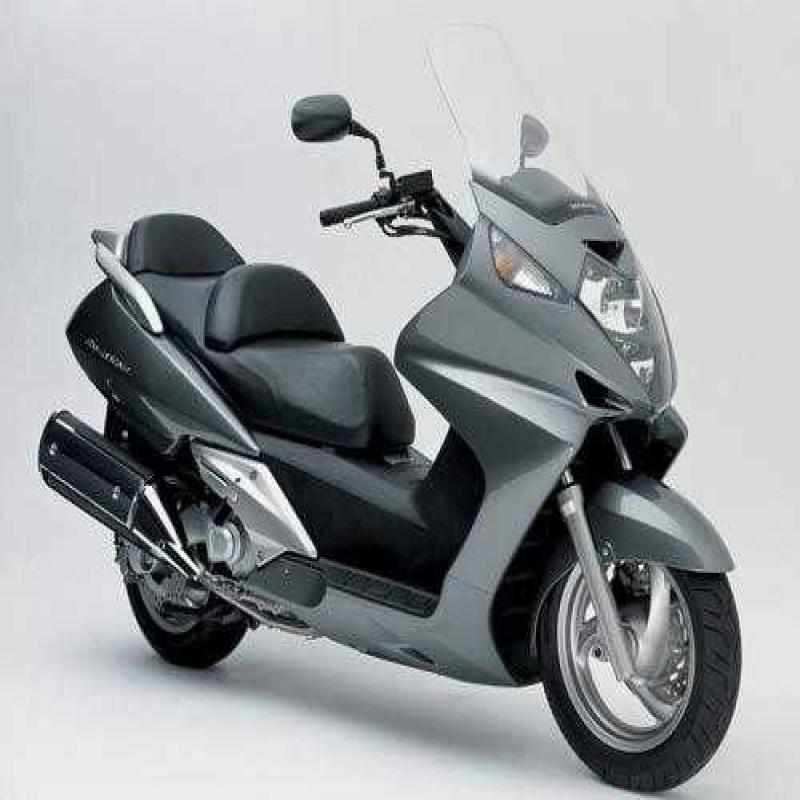bike: (37, 13, 754, 799)
